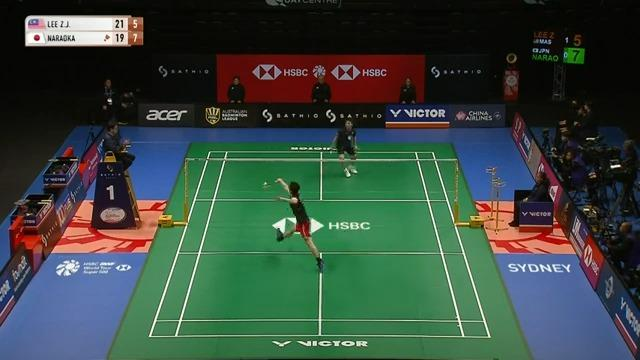Shuttlecock: (262, 178, 270, 186)
